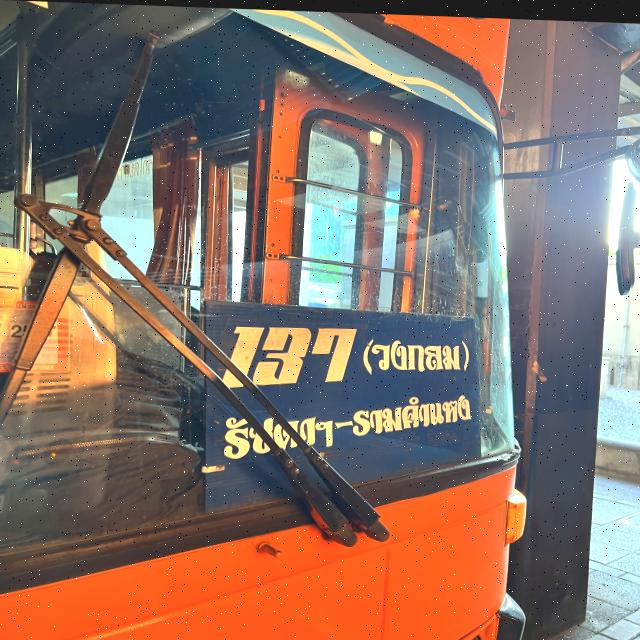BMTA-bus: (0, 0, 541, 640)
Destination-Sign-Normal: (197, 298, 478, 513)
